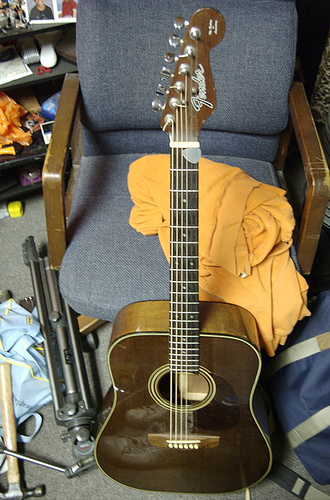guitar: (93, 7, 274, 495)
